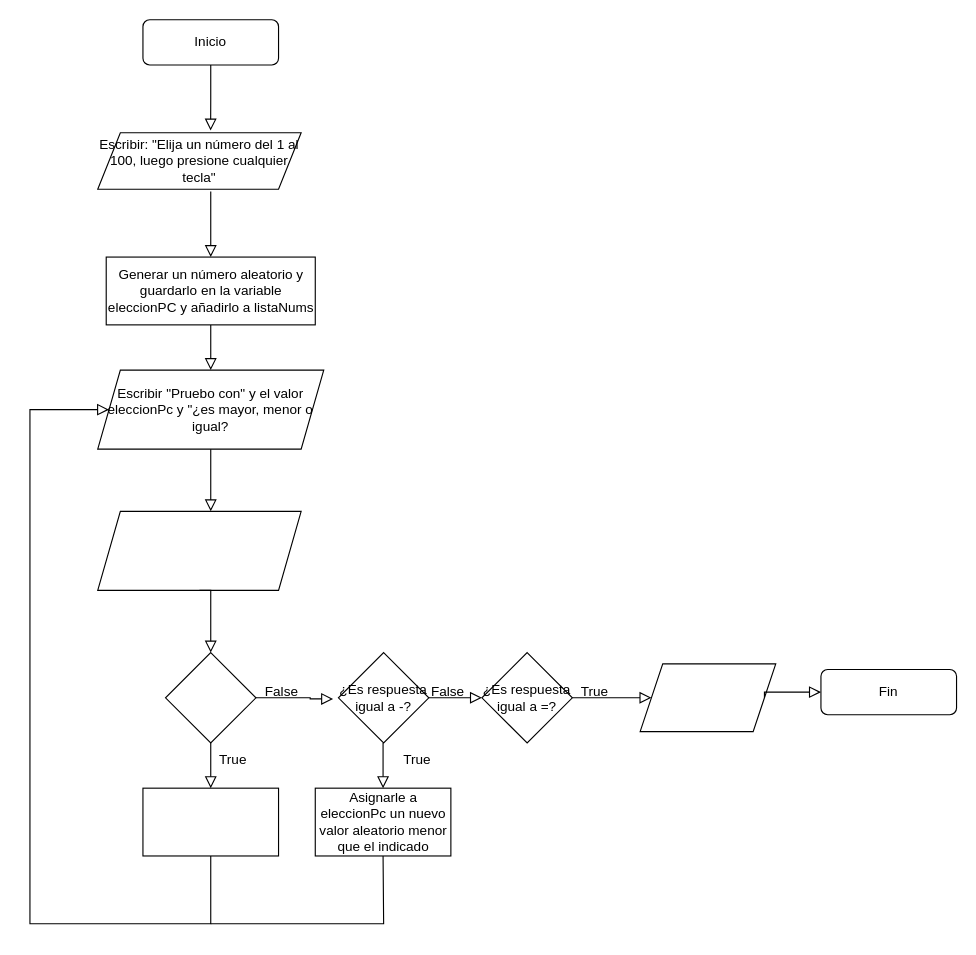
Image size: 976x955. Some labels were removed from this diagram. Here are the shapes that lost their labels. From the top down, the centre of each, then its label:
(199,550): Poner el valor introducido en la variable respuesta
(210,697): ¿Es respuesta igual a +?
(707,697): Escribir: "Felicidades, ¡has acertado!
(210,821): Asignarle a eleccionPc un nuevo valor aleatorio mayor que el indicado
